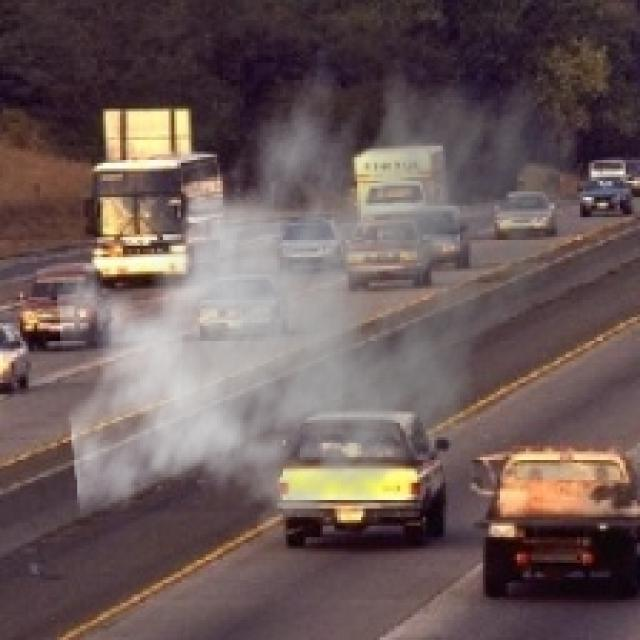smoke: (54, 14, 586, 549)
